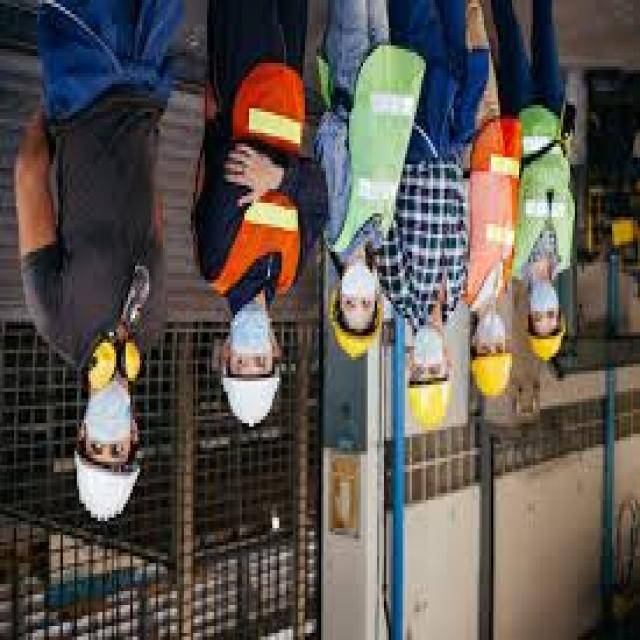Ear-Protection: (84, 343, 114, 395), (121, 339, 140, 392)
Helmet: (65, 462, 142, 532), (217, 378, 280, 433), (401, 381, 452, 441), (326, 318, 379, 367), (468, 356, 512, 406), (524, 336, 563, 367)
Vest: (199, 69, 311, 306), (319, 39, 423, 257), (457, 126, 521, 320), (510, 101, 572, 291)
